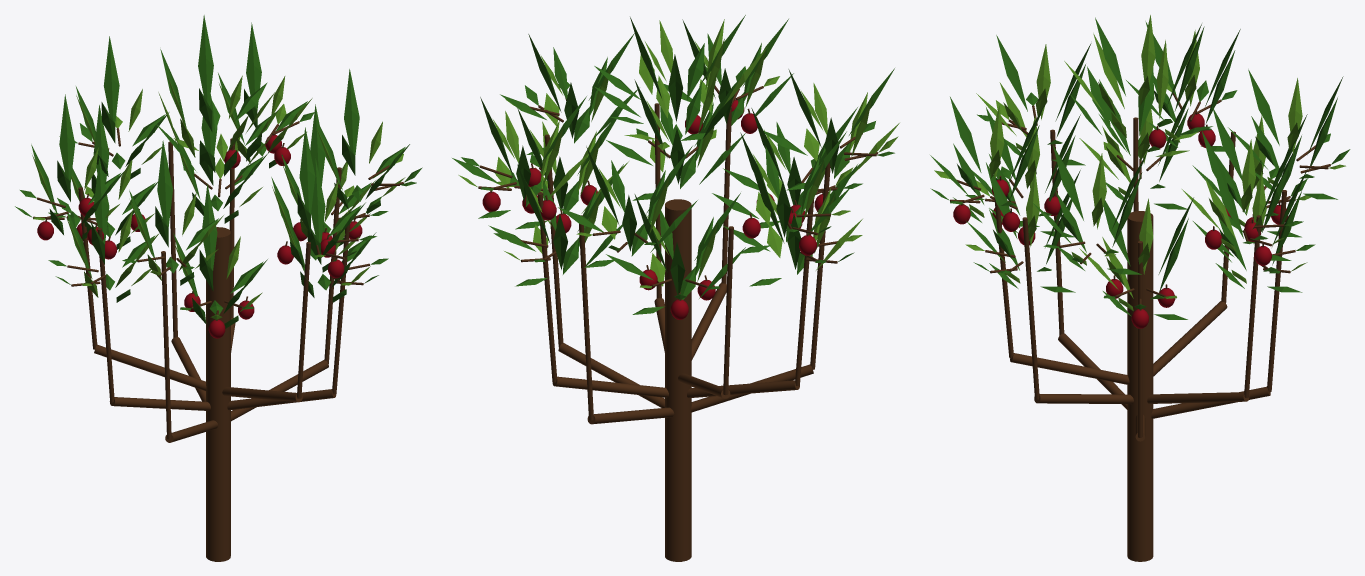
File: Meggyfa.obj
3 renders of one model, left to right at view 1: azimuth 30°, elevation 25°; view 2: azimuth 150°, elevation 25°; view 3: azimuth 270°, elevation 25°, orthographic. The views are drawn at different scales.
Size of the model in its own units: 3.08 by 4.35 by 3.07.
